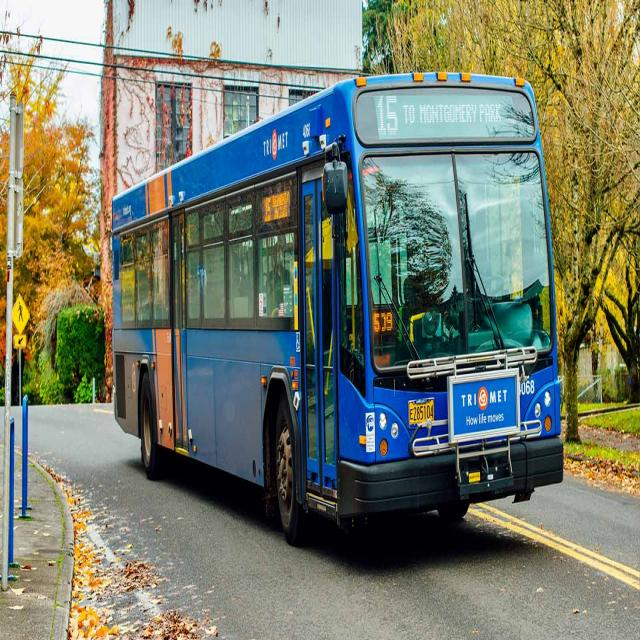bus: (95, 45, 563, 525)
